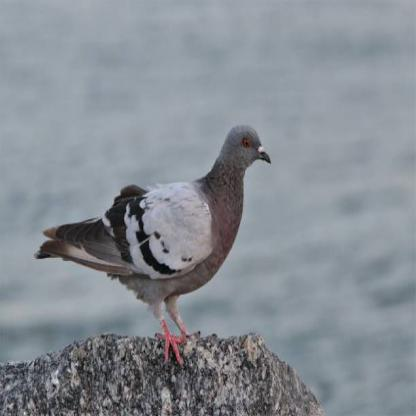Flying Rat: (38, 122, 273, 361)
